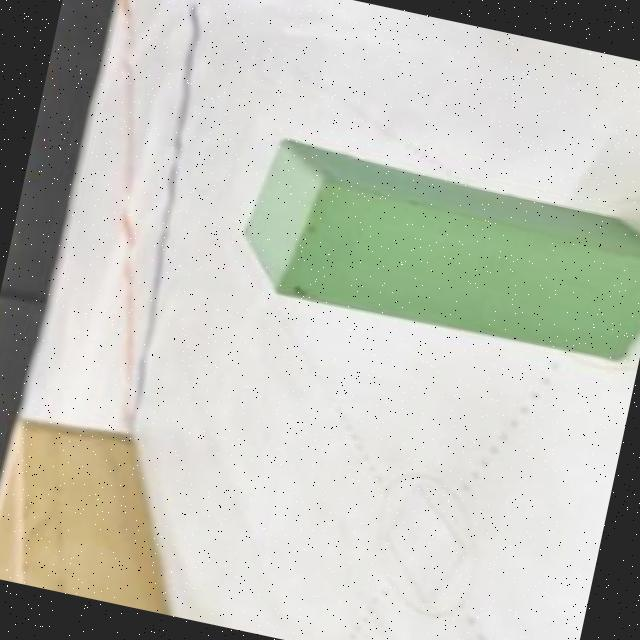greenbox: (223, 129, 640, 376)
